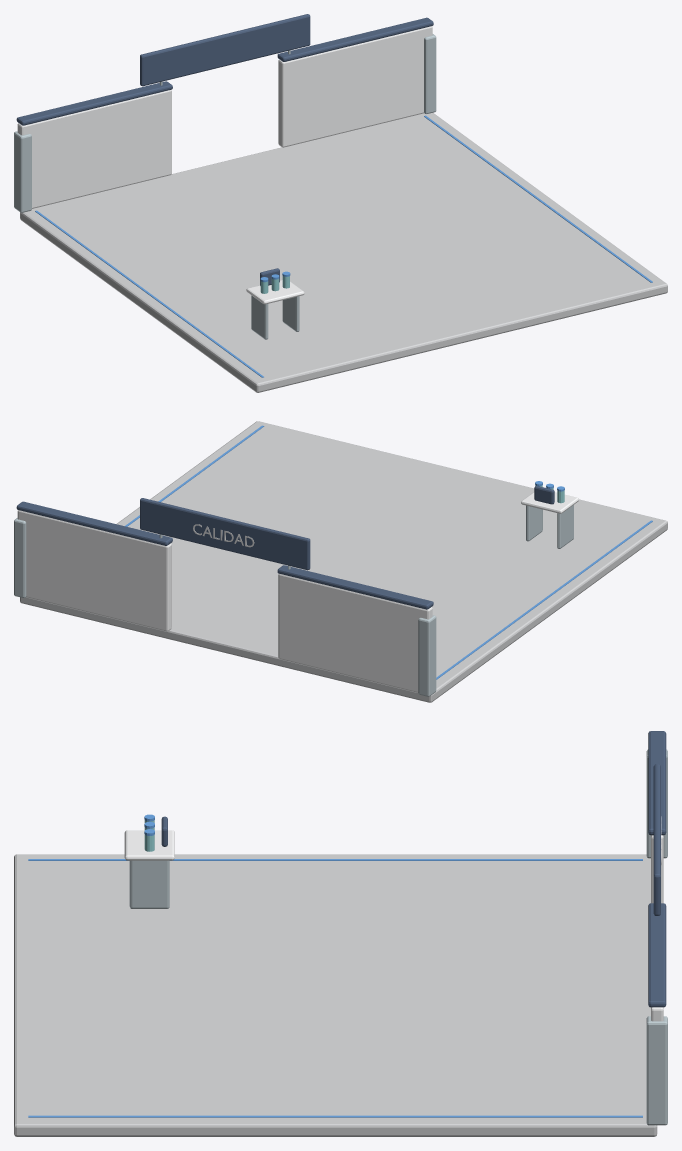
File: zone-quality.glb
3 renders of one model, top to bottom at view 1: azimuth 30°, elevation 25°; view 2: azimuth 150°, elevation 25°; view 3: azimuth 270°, elevation 25°, orthographic. The views are drawn at different scales.
Parts seen in each view (by area): view 1: Floor.004, Back wall.004, Section plaque.004, Plaque support.004, Floor border.003, Quality support, Quality worktop; view 2: Floor.004, Back wall.004, Section plaque.004, Plaque support.004, Quality support, Floor border.003, Quality worktop; view 3: Floor.004, Section plaque.004, Plaque support.004, Floor border.003, Quality support, Quality worktop, Back wall.004.
Boxes of the visible parts, box(x1,y1,x2,y2) form: Floor.004: box(20, 113, 667, 392); Back wall.004: box(17, 26, 432, 208); Section plaque.004: box(16, 14, 433, 125); Plaque support.004: box(14, 34, 436, 212); Floor border.003: box(35, 115, 652, 377); Quality support: box(251, 295, 299, 339); Quality worktop: box(246, 280, 304, 304); Floor.004: box(20, 421, 667, 702); Back wall.004: box(17, 510, 432, 692); Section plaque.004: box(16, 498, 433, 609); Plaque support.004: box(14, 518, 436, 696); Quality support: box(526, 505, 573, 548); Floor border.003: box(125, 425, 652, 679); Quality worktop: box(521, 492, 578, 513); Floor.004: box(14, 854, 657, 1136); Section plaque.004: box(648, 731, 666, 1007); Plaque support.004: box(646, 749, 667, 1125); Floor border.003: box(28, 859, 642, 1117); Quality support: box(129, 860, 169, 908); Quality worktop: box(124, 830, 174, 860); Back wall.004: box(651, 816, 663, 1021).
Size of the model in its own units: 9.09 by 2.82 by 9.15.
